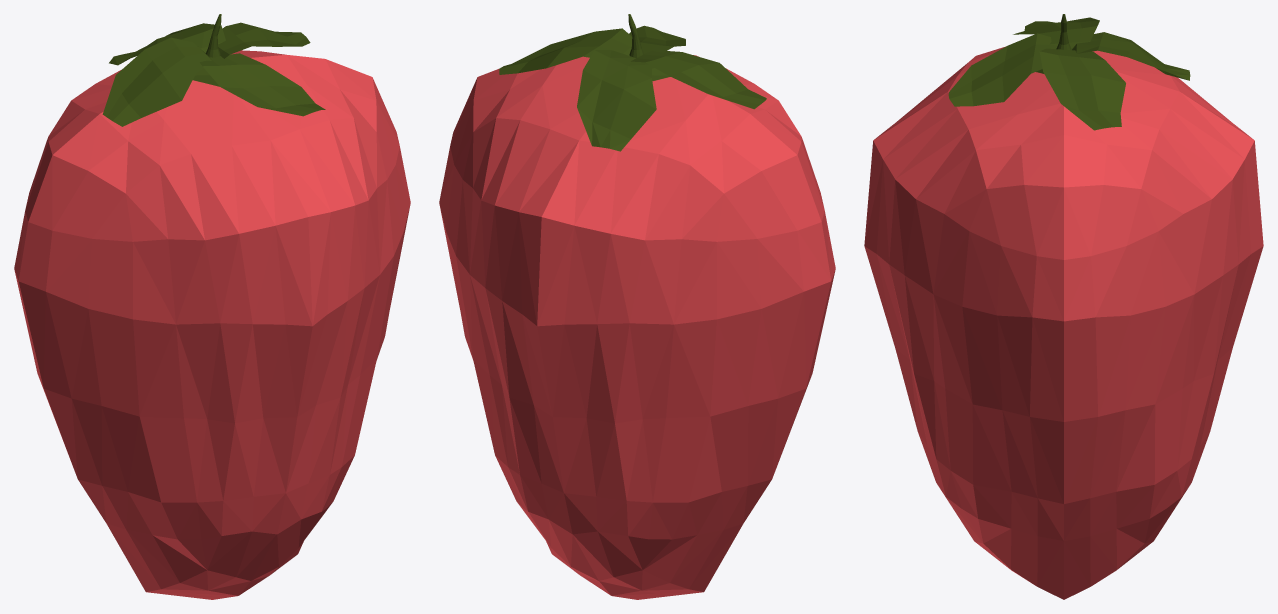
Rendered from Strawberry_LP.fbx.
The picture shows the model from 3 angles, left to right: view 1: azimuth 30°, elevation 25°; view 2: azimuth 150°, elevation 25°; view 3: azimuth 270°, elevation 25°; orthographic projection.
Parts seen in each view (by area): view 1: Strawberry, Leaf.002, Leaf.003, Leaf.004, Leaf; view 2: Strawberry, Leaf, Leaf.002, Leaf.004, Leaf.003; view 3: Strawberry, Leaf.004, Leaf.003, Leaf, Leaf.002.
Part boxes in pixels (bbox=[...]): Strawberry: bbox=[14, 50, 410, 599]; Leaf.002: bbox=[102, 37, 211, 126]; Leaf.003: bbox=[199, 53, 325, 116]; Leaf.004: bbox=[218, 22, 310, 58]; Leaf: bbox=[109, 23, 225, 65]; Strawberry: bbox=[439, 55, 835, 599]; Leaf: bbox=[577, 50, 656, 151]; Leaf.002: bbox=[631, 50, 766, 109]; Leaf.004: bbox=[499, 28, 632, 74]; Leaf.003: bbox=[629, 25, 685, 53]; Strawberry: bbox=[864, 46, 1263, 599]; Leaf.004: bbox=[1039, 48, 1125, 130]; Leaf.003: bbox=[948, 33, 1057, 106]; Leaf: bbox=[1072, 32, 1190, 80]; Leaf.002: bbox=[1013, 17, 1099, 49].
Bounding box in the file's own units: 258 × 371 × 231.
